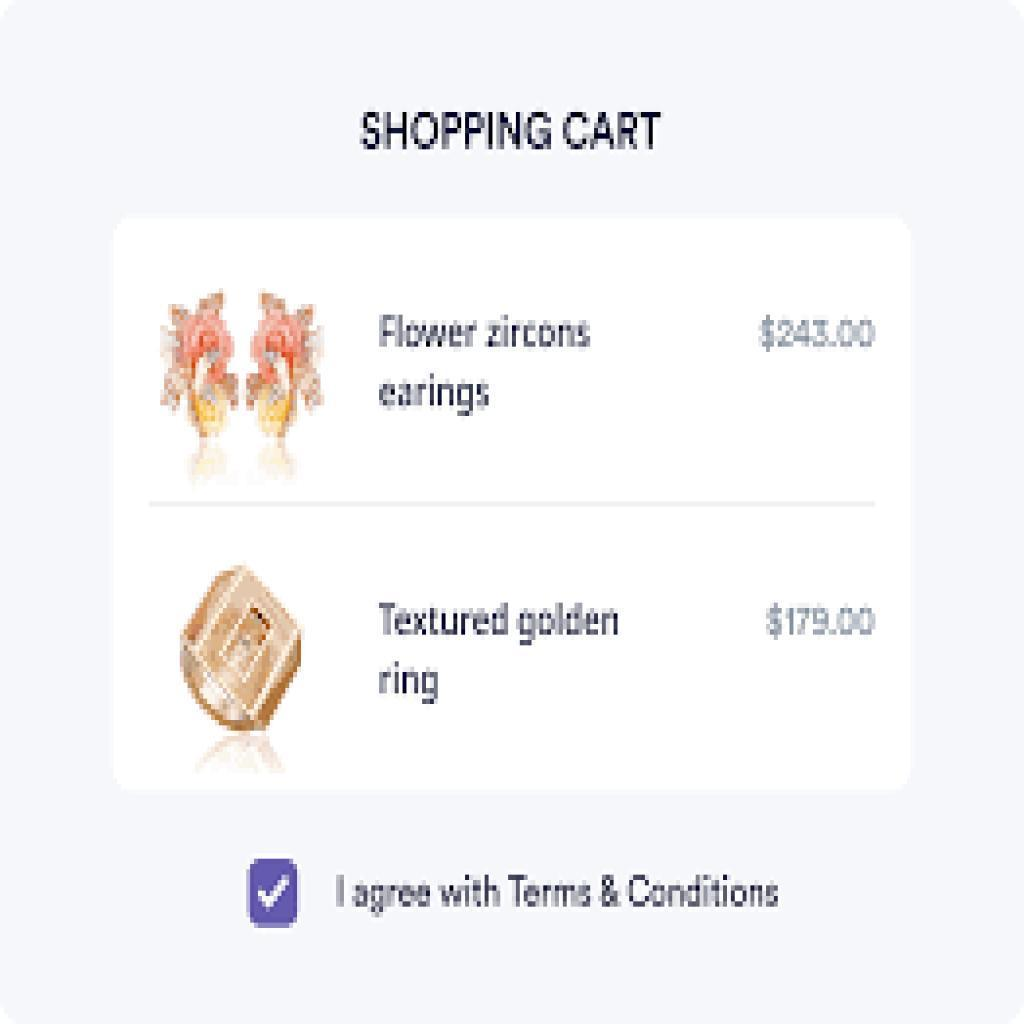checkbox: (247, 858, 300, 931)
label: (333, 866, 783, 917)
